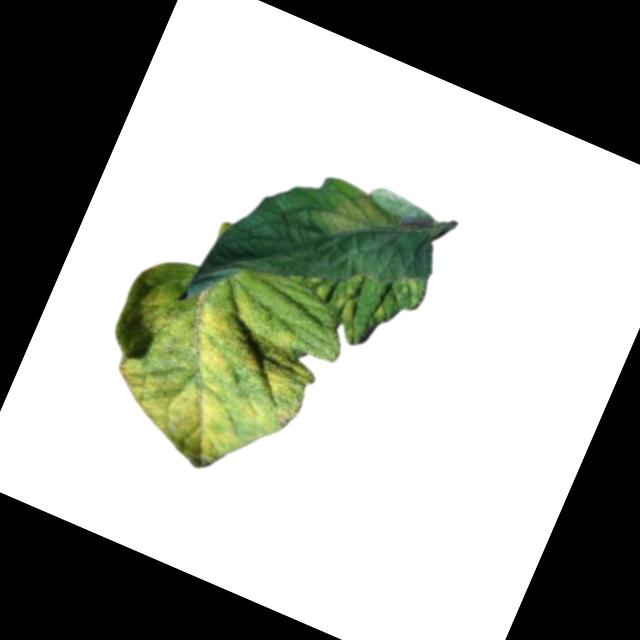Leaf_Mold: (76, 253, 337, 497), (309, 174, 402, 260), (327, 268, 373, 326), (388, 270, 432, 311)
